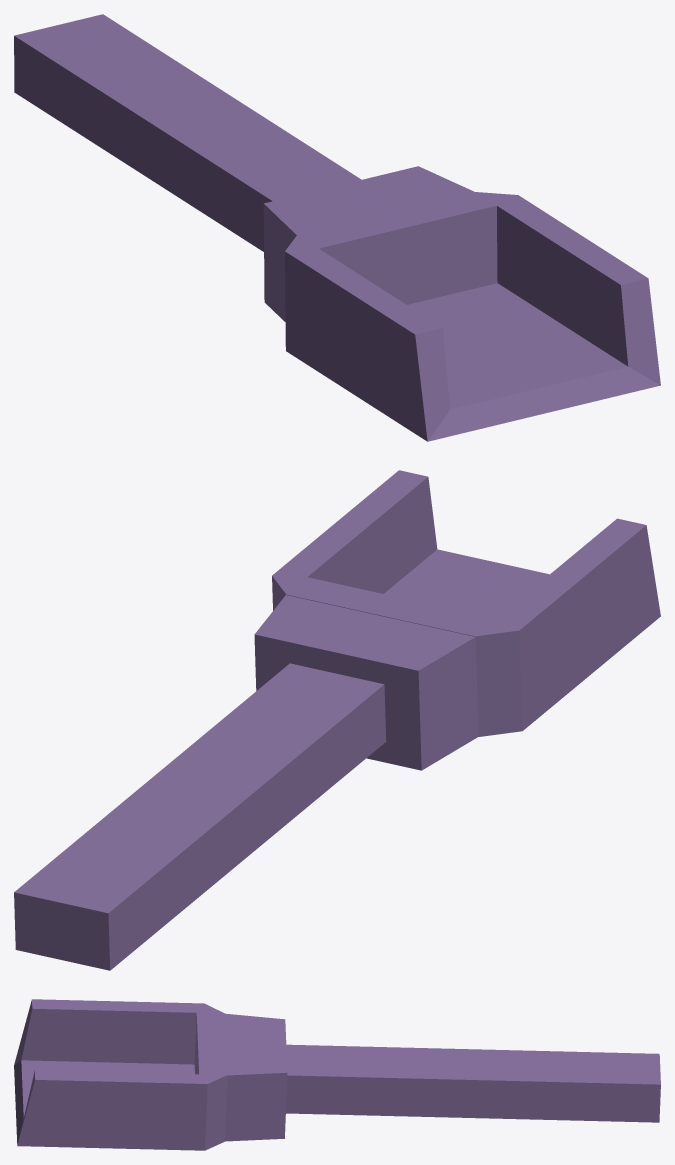
The model's file is Isl_9_Children_scapula.fbx.
3 renders of one model, top to bottom at view 1: azimuth 30°, elevation 25°; view 2: azimuth 150°, elevation 25°; view 3: azimuth 270°, elevation 25°, orthographic. The views are drawn at different scales.
Visible parts, largest first — view 1: Isl_9_Children_scapula; view 2: Isl_9_Children_scapula; view 3: Isl_9_Children_scapula.
Boxes of the visible parts, left/top/right/bottom form: Isl_9_Children_scapula: left=14, top=14, right=660, bottom=441; Isl_9_Children_scapula: left=14, top=470, right=660, bottom=970; Isl_9_Children_scapula: left=14, top=999, right=660, bottom=1150.
Size of the model in its own units: 11.05 by 37.65 by 4.91.
1 material, 1 textured.
